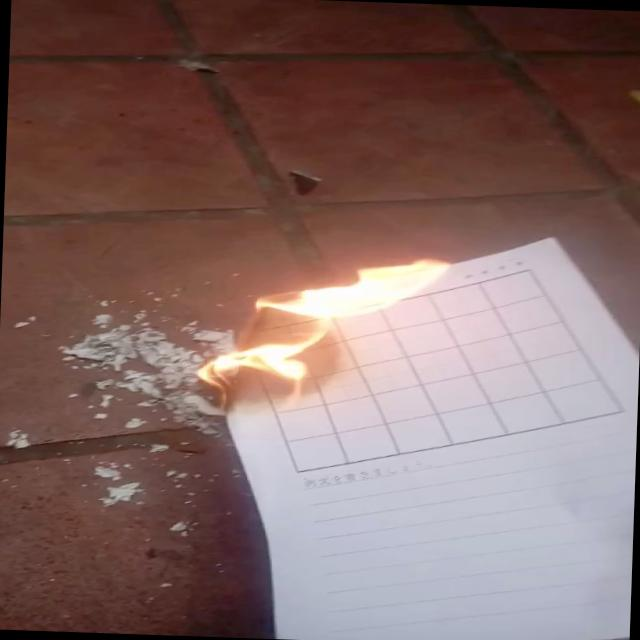Fire_Dangerous: (188, 247, 452, 420)
